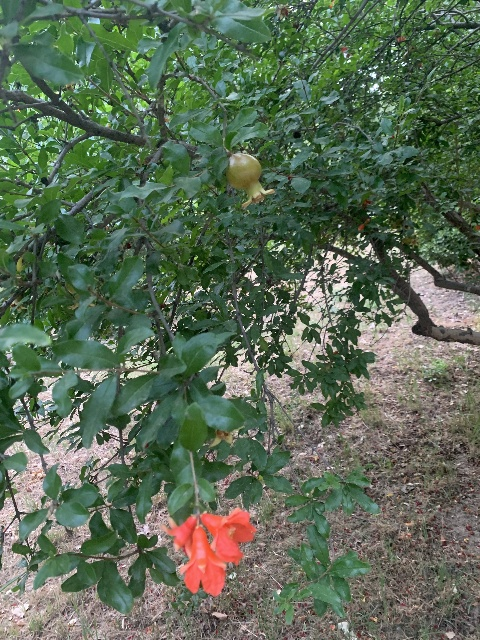flower: (179, 525, 227, 596), (200, 507, 256, 562), (163, 514, 198, 554)
mid-growth: (225, 153, 276, 209)
